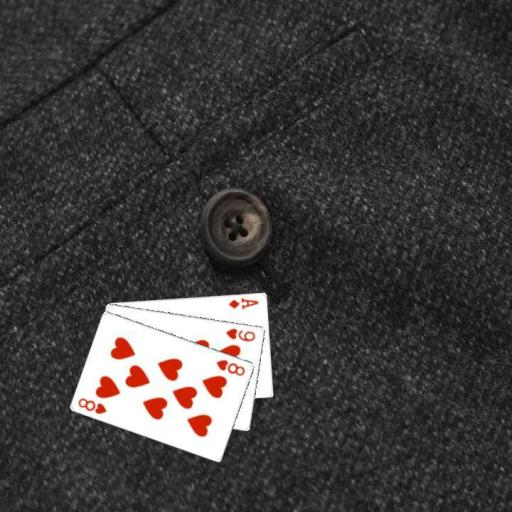card-corner: (213, 356, 247, 377), (75, 395, 108, 415), (222, 325, 256, 343), (226, 294, 260, 310)
